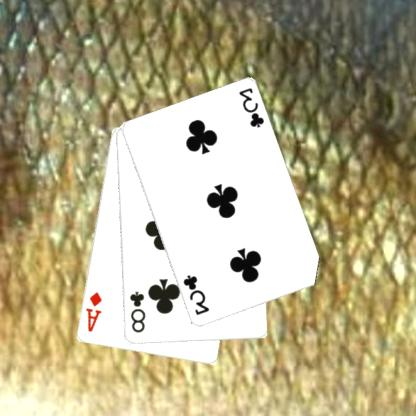3C: (182, 272, 212, 317), (238, 85, 267, 129)
8C: (128, 289, 148, 334)
AD: (84, 289, 104, 334)
